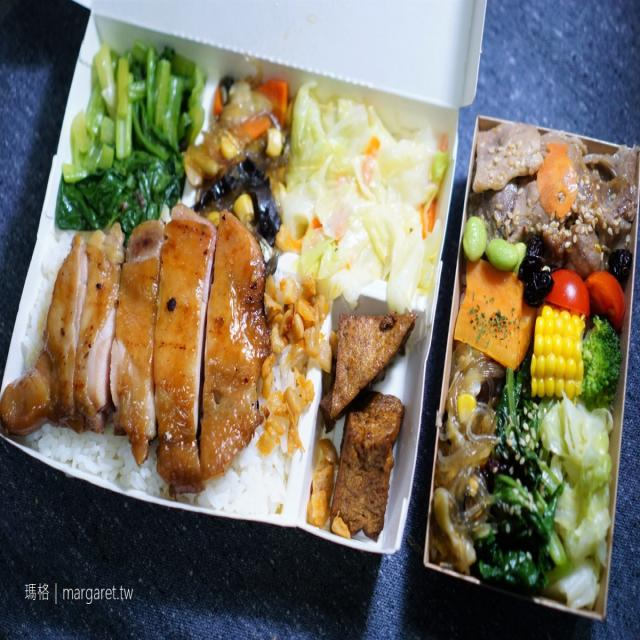Chicken Leg Steak: (75, 254, 262, 444)
Fushan-lettuce: (101, 48, 178, 214)
cabbage: (306, 98, 427, 272), (511, 392, 607, 592)
